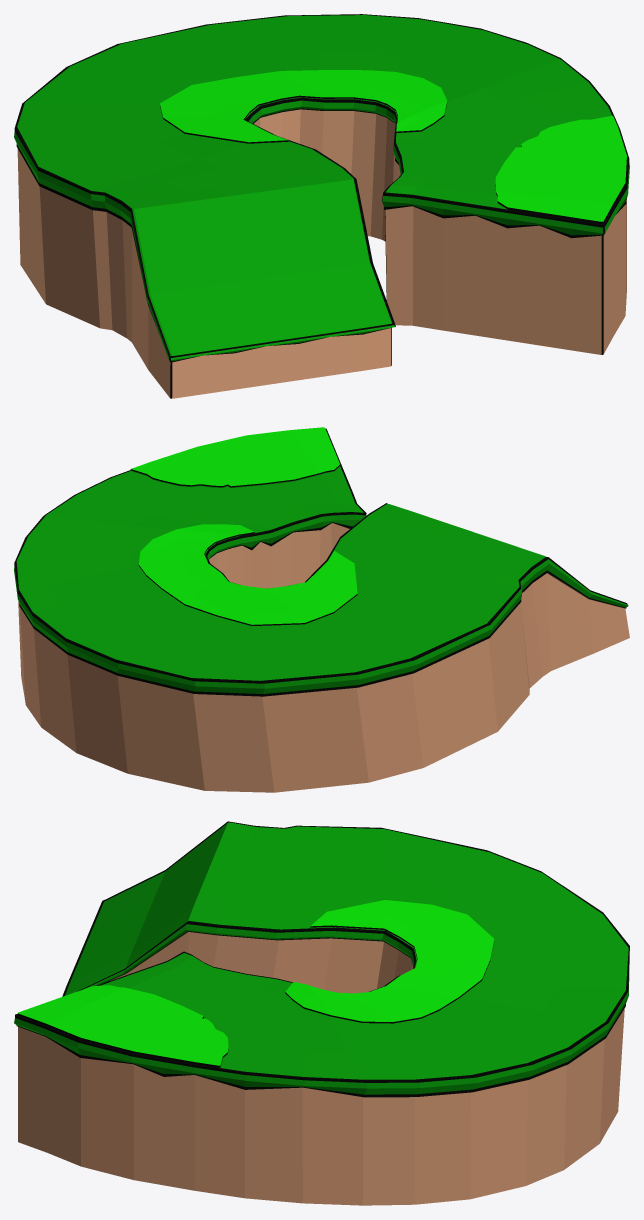
File: CardboardPlatform09.fbx
The picture shows the model from 3 angles, top to bottom: view 1: azimuth 30°, elevation 25°; view 2: azimuth 150°, elevation 25°; view 3: azimuth 270°, elevation 25°; orthographic projection. The views are drawn at different scales.
Visible parts, largest first — view 1: Cube.063; view 2: Cube.063; view 3: Cube.063.
Boxes of the visible parts, <box> form: Cube.063: <box>14,14,629,398</box>; Cube.063: <box>14,427,629,792</box>; Cube.063: <box>14,821,629,1205</box>.
Bounding box in the file's own units: 3386 × 1015 × 3534.
